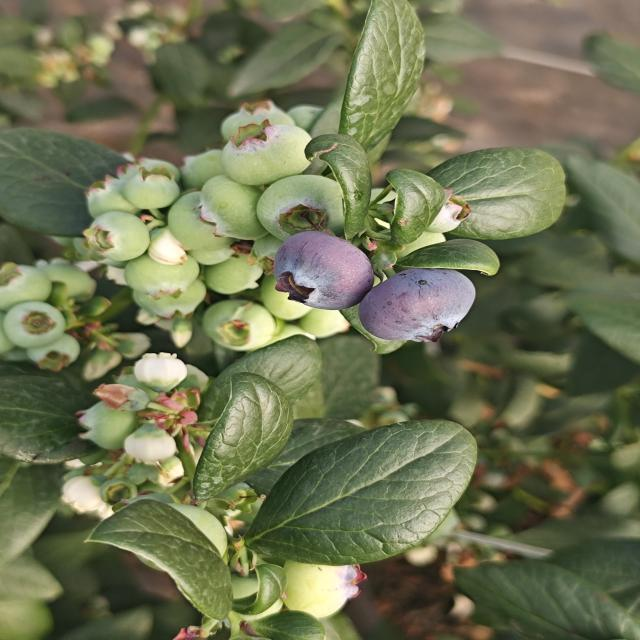ripe: (268, 223, 382, 313), (353, 263, 464, 354)
